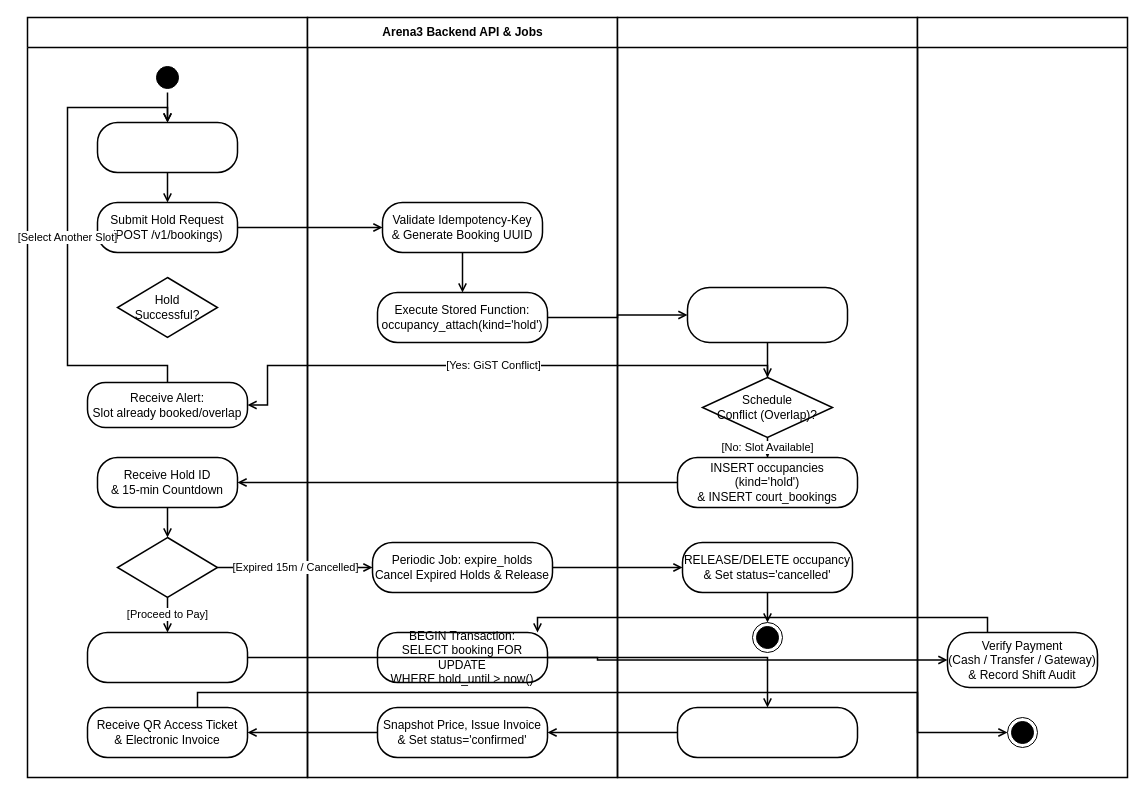
The diagram is 1145 pixels wide and 796 high, and some of its shapes have lost their labels. Each missing label, with the box of its shape:
Cashier / Payment Gateway: (916, 16, 1128, 778)
Customer / Member (Client App): (26, 16, 308, 778)
Evaluate btree_gist Exclusion Constraint on [court_id, timerange]: (686, 286, 848, 343)
Make Payment (QR / Cash / Sport Pass Quota): (86, 631, 248, 683)
occupancy_confirm_hold(): UPDATE kind='booking' (same id) & COMMIT: (676, 706, 858, 758)
Pay Within 15-min TTL?: (116, 536, 218, 598)
PostgreSQL DB (Occupancy Locking Engine): (616, 16, 918, 778)
Select Court, Date & Time Slot: (96, 121, 238, 173)
